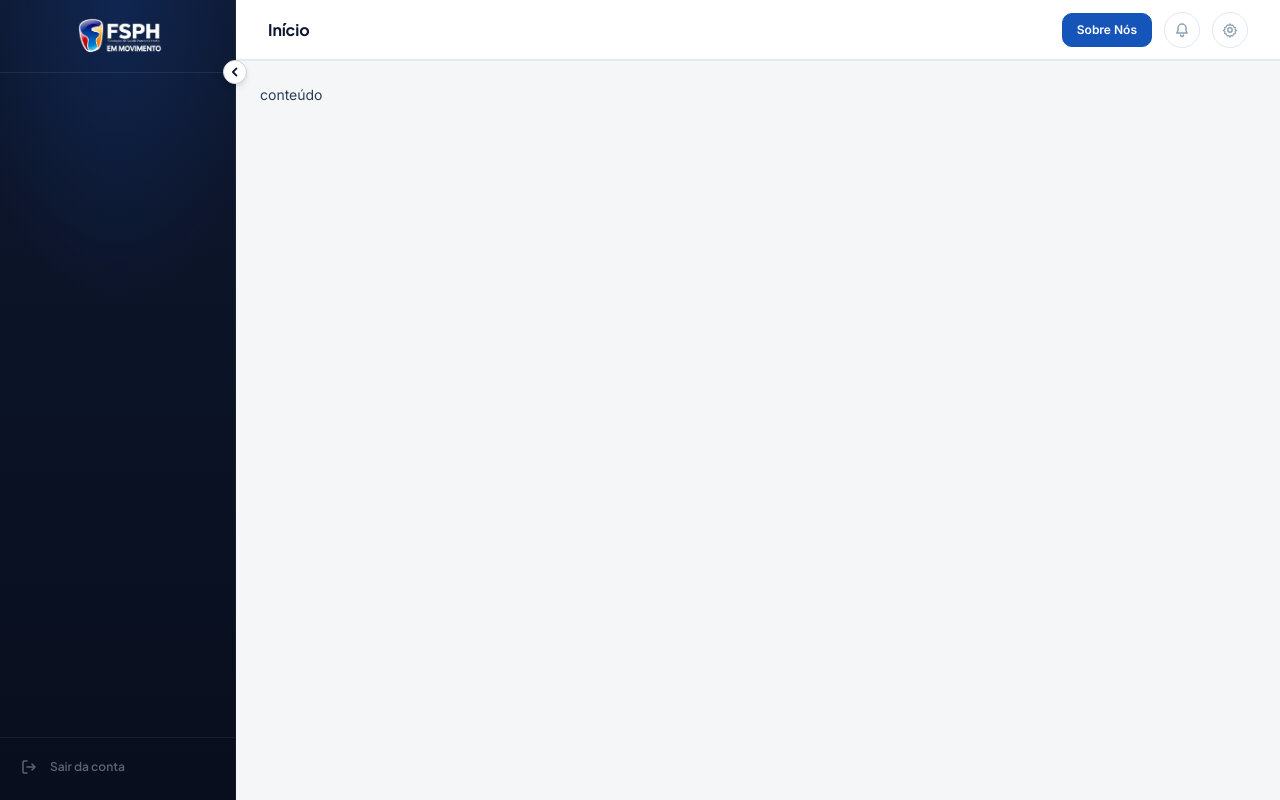
it: AppLayout - cabeçalho › o sino abre o dropdown sem abrir o modal de preferências
Click the button named "Notificações" at (1182, 30), box [1164, 12, 1200, 48]
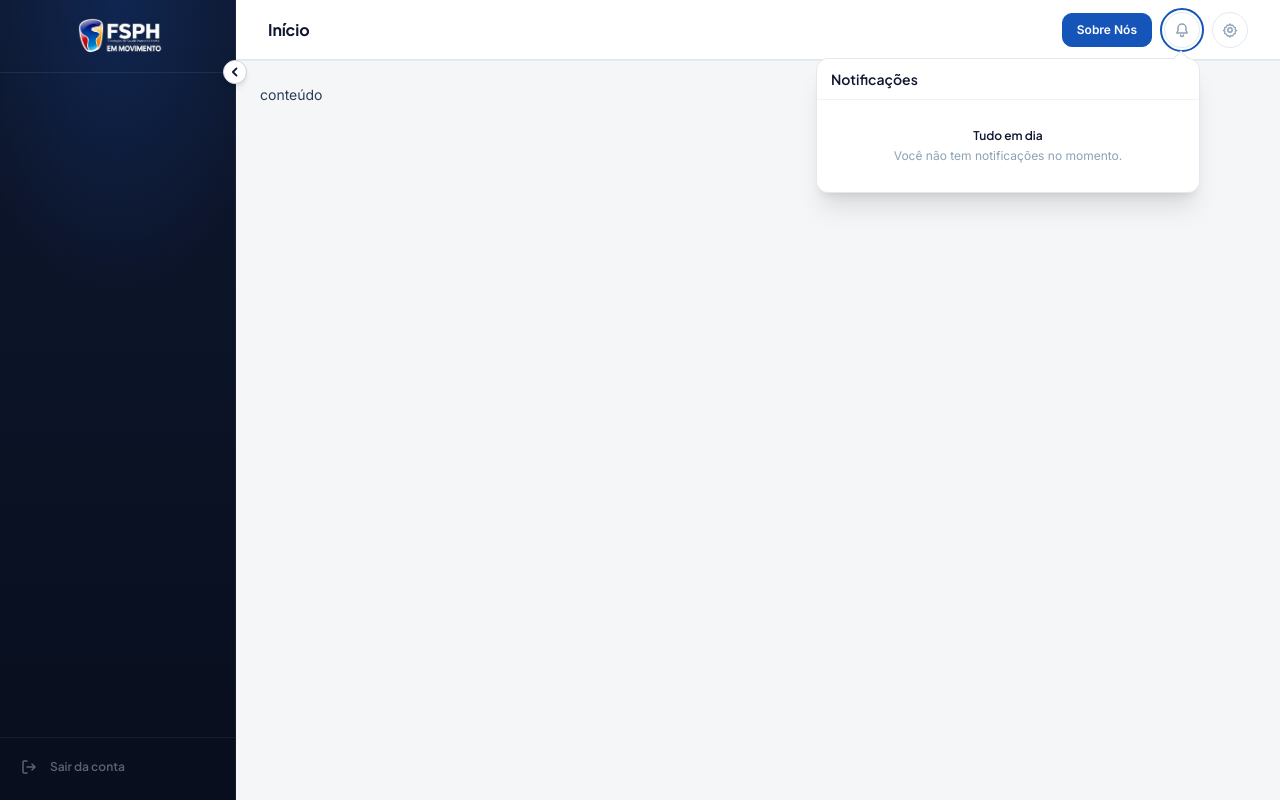
Result: the text "Você não tem notificações no momento." is shown at [894, 148, 1122, 162]
